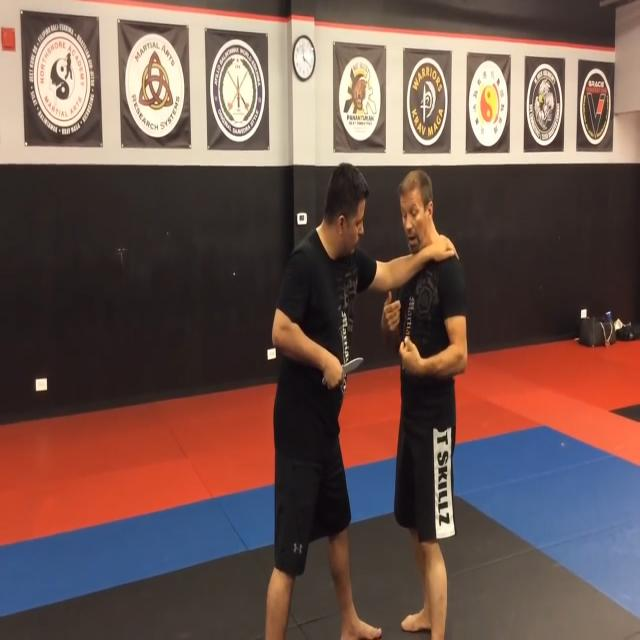knife: (341, 355, 365, 383)
